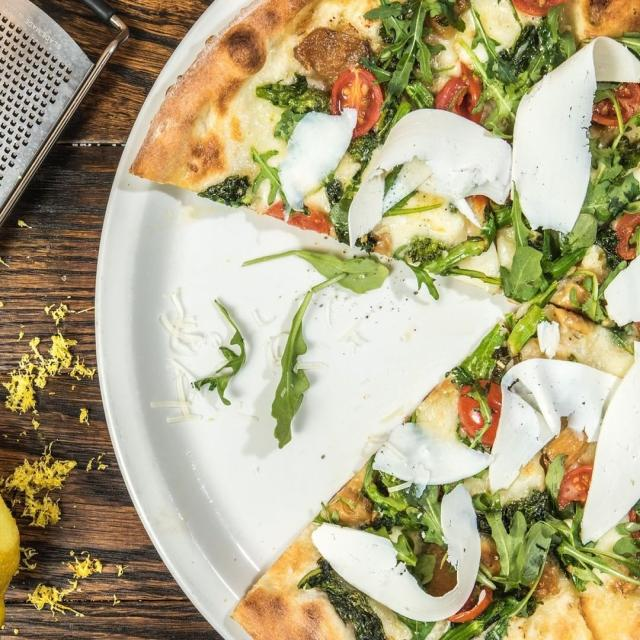pizza: (127, 0, 640, 640)
tomatoes: (330, 64, 382, 139), (459, 379, 506, 444), (438, 66, 484, 126), (589, 74, 640, 124), (260, 198, 328, 235), (434, 586, 495, 623), (554, 465, 598, 509), (614, 202, 640, 263), (505, 0, 572, 14)
